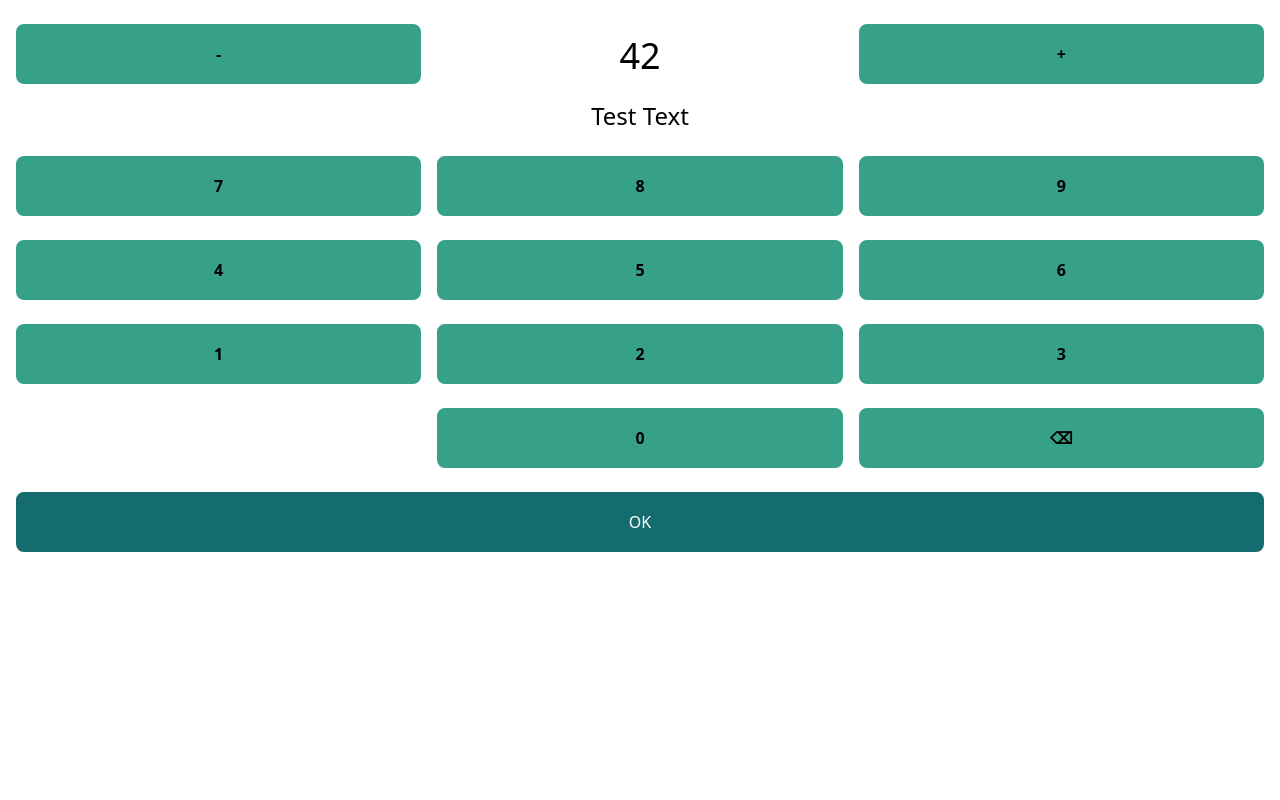
NumPad › adds button value at the end when number button is clicked
Click the button "1".
click(219, 354)  # box [16,324,421,384]
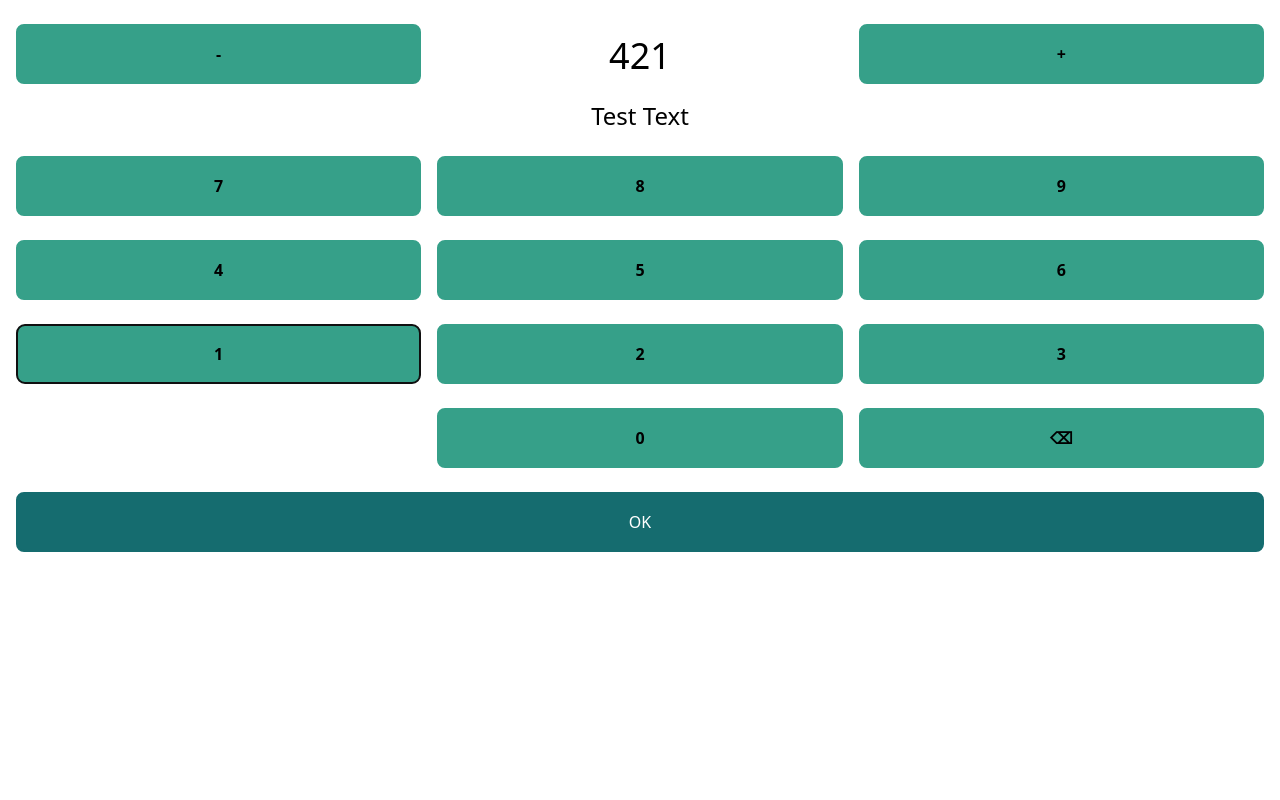
Now the text "421" is shown, box [609,31,671,80]
